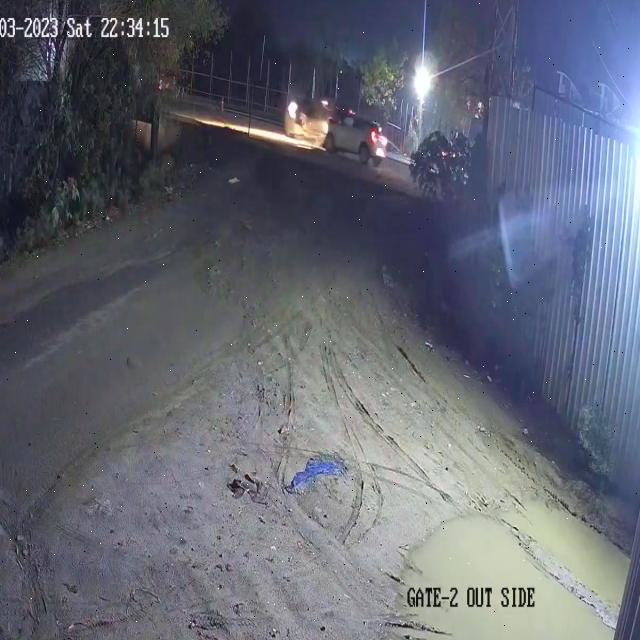accident: (282, 88, 393, 173)
